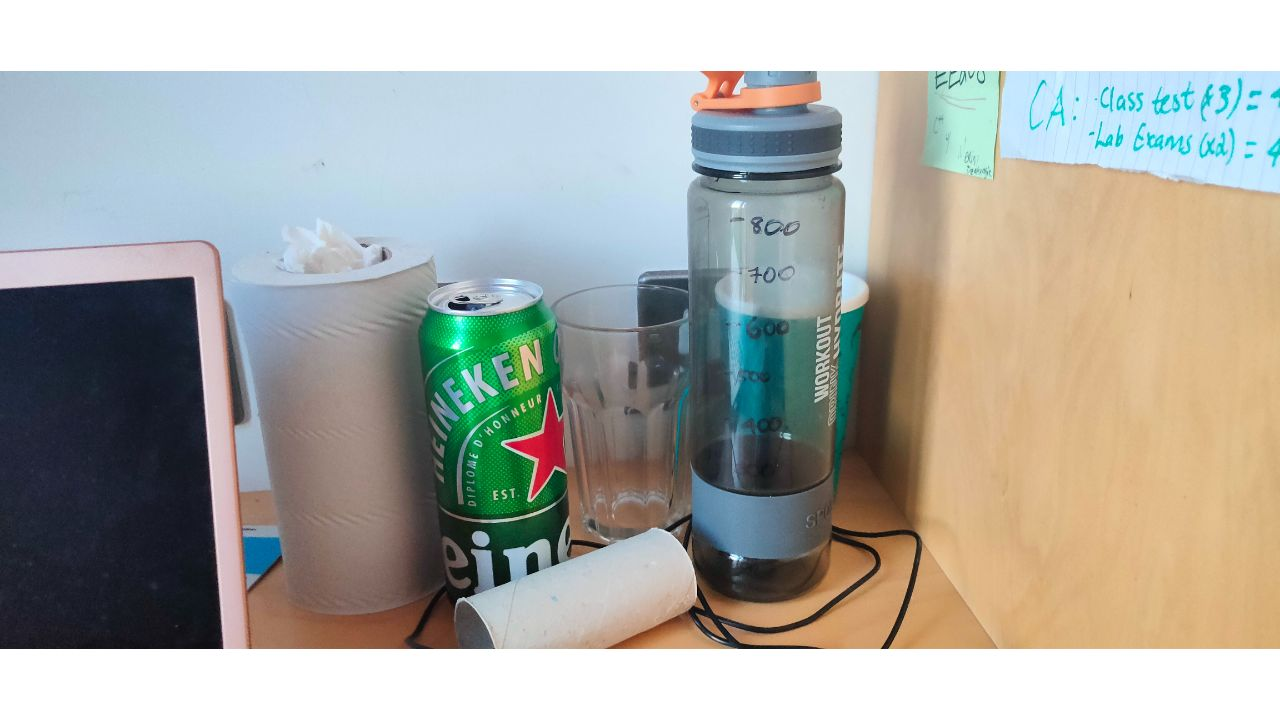Can: (419, 278, 573, 608)
